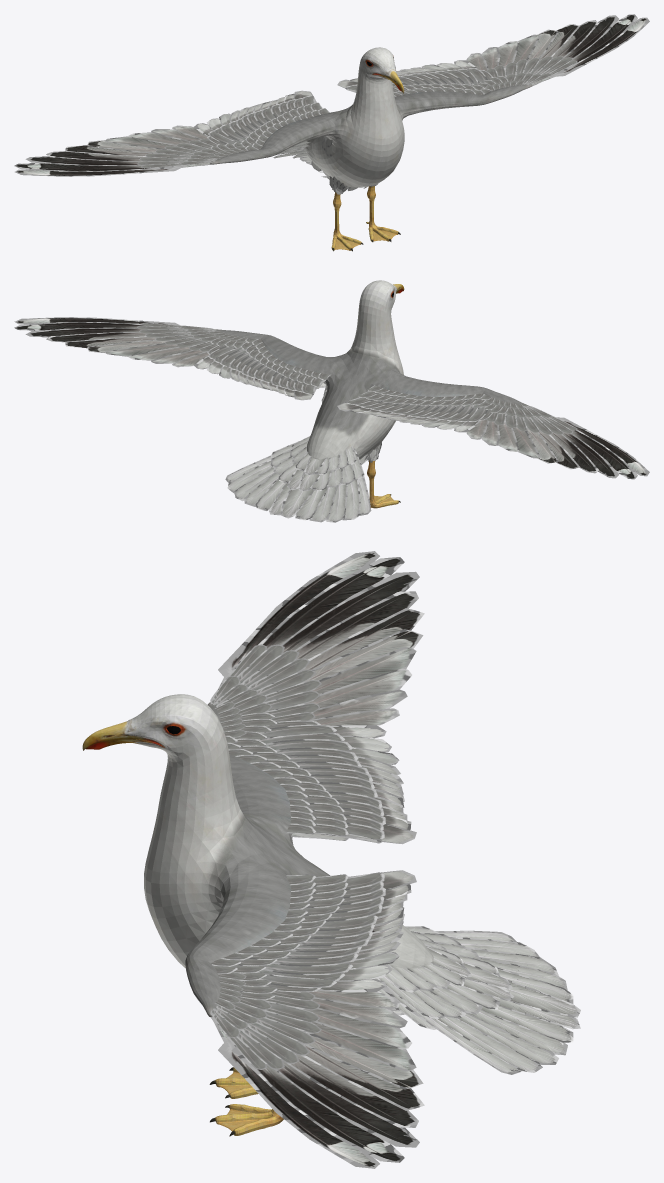
The model's file is CaliforniaGull_obj.obj.
3 views of the same model, one above another, from view 1: azimuth 30°, elevation 25°; view 2: azimuth 150°, elevation 25°; view 3: azimuth 270°, elevation 25° (orthographic). The views are drawn at different scales.
Parts seen in each view (by area): view 1: CaliforniaGull body, CaliforniaGull prim_feather23, CaliforniaGull prim_feather22, prim_feather CaliforniaGull, CaliforniaGull prim_feather1, CaliforniaGull prim_feather24, CaliforniaGull prim_feather2, CaliforniaGull prim_feather25, CaliforniaGull feathers_small, CaliforniaGull prim_feather3, CaliforniaGull prim_feather26, CaliforniaGull prim_feather4 (+6 smaller); view 2: CaliforniaGull body, CaliforniaGull Tail_Control2 Tail_Control1 Body_Control Gull_Con, prim_feather CaliforniaGull, CaliforniaGull prim_feather23, CaliforniaGull prim_feather1, CaliforniaGull prim_feather22, CaliforniaGull prim_feather2, CaliforniaGull prim_feather24, CaliforniaGull prim_feather3, CaliforniaGull prim_feather25, CaliforniaGull prim_feather4, CaliforniaGull prim_feather26 (+6 smaller); view 3: CaliforniaGull body, CaliforniaGull Tail_Control2 Tail_Control1 Body_Control Gull_Con, prim_feather CaliforniaGull, CaliforniaGull prim_feather23, CaliforniaGull prim_feather1, CaliforniaGull prim_feather22, CaliforniaGull prim_feather2, CaliforniaGull prim_feather24, CaliforniaGull prim_feather3, CaliforniaGull prim_feather25, CaliforniaGull prim_feather4, CaliforniaGull prim_feather26 (+11 smaller).
Boxes of the visible parts, left/top/right/bottom form: CaliforniaGull body: left=210, top=47, right=532, bottom=251; CaliforniaGull prim_feather23: left=14, top=163, right=176, bottom=171; CaliforniaGull prim_feather22: left=15, top=163, right=210, bottom=176; prim_feather CaliforniaGull: left=555, top=14, right=637, bottom=73; CaliforniaGull prim_feather1: left=532, top=17, right=649, bottom=85; CaliforniaGull prim_feather24: left=25, top=156, right=144, bottom=165; CaliforniaGull prim_feather2: left=563, top=15, right=618, bottom=58; CaliforniaGull prim_feather25: left=46, top=151, right=147, bottom=161; CaliforniaGull feathers_small: left=296, top=136, right=377, bottom=194; CaliforniaGull prim_feather3: left=552, top=20, right=598, bottom=57; CaliforniaGull prim_feather26: left=65, top=145, right=151, bottom=156; CaliforniaGull prim_feather4: left=540, top=24, right=580, bottom=59; CaliforniaGull body: left=214, top=280, right=528, bottom=508; CaliforniaGull Tail_Control2 Tail_Control1 Body_Control Gull_Con: left=227, top=436, right=371, bottom=522; prim_feather CaliforniaGull: left=14, top=322, right=143, bottom=330; CaliforniaGull prim_feather23: left=571, top=430, right=637, bottom=479; CaliforniaGull prim_feather1: left=14, top=317, right=179, bottom=325; CaliforniaGull prim_feather22: left=554, top=416, right=649, bottom=476; CaliforniaGull prim_feather2: left=25, top=327, right=143, bottom=337; CaliforniaGull prim_feather24: left=563, top=432, right=619, bottom=478; CaliforniaGull prim_feather3: left=46, top=332, right=147, bottom=342; CaliforniaGull prim_feather25: left=550, top=433, right=598, bottom=473; CaliforniaGull prim_feather4: left=65, top=336, right=155, bottom=348; CaliforniaGull prim_feather26: left=539, top=431, right=580, bottom=469; CaliforniaGull body: left=82, top=694, right=433, bottom=1136; CaliforniaGull Tail_Control2 Tail_Control1 Body_Control Gull_Con: left=377, top=926, right=580, bottom=1072; prim_feather CaliforniaGull: left=231, top=1046, right=404, bottom=1162; CaliforniaGull prim_feather23: left=231, top=557, right=404, bottom=670; CaliforniaGull prim_feather1: left=211, top=1017, right=379, bottom=1168; CaliforniaGull prim_feather22: left=218, top=551, right=379, bottom=688; CaliforniaGull prim_feather2: left=274, top=1061, right=419, bottom=1147; CaliforniaGull prim_feather24: left=280, top=571, right=419, bottom=652; CaliforniaGull prim_feather3: left=287, top=1054, right=418, bottom=1127; CaliforniaGull prim_feather25: left=295, top=591, right=418, bottom=659; CaliforniaGull prim_feather4: left=301, top=1045, right=424, bottom=1110; CaliforniaGull prim_feather26: left=302, top=608, right=424, bottom=670.
Bounding box in the file's own units: 127 × 38.95 × 43.24.
4 materials, 3 textured.
